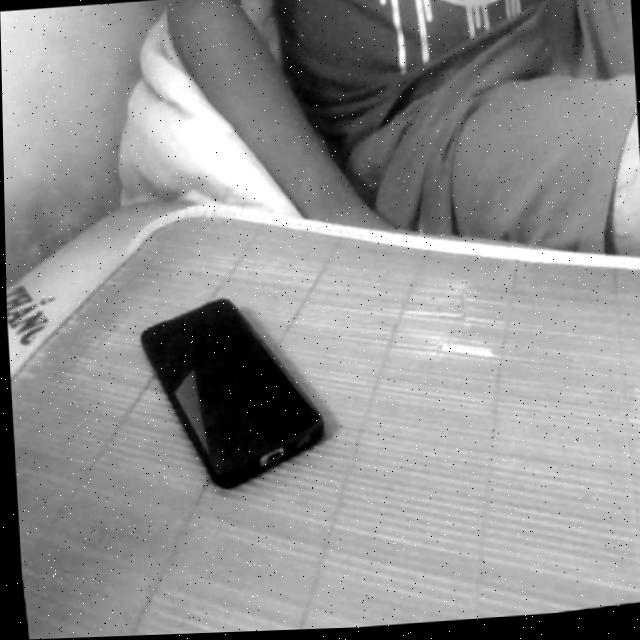phone: (118, 268, 341, 512)
